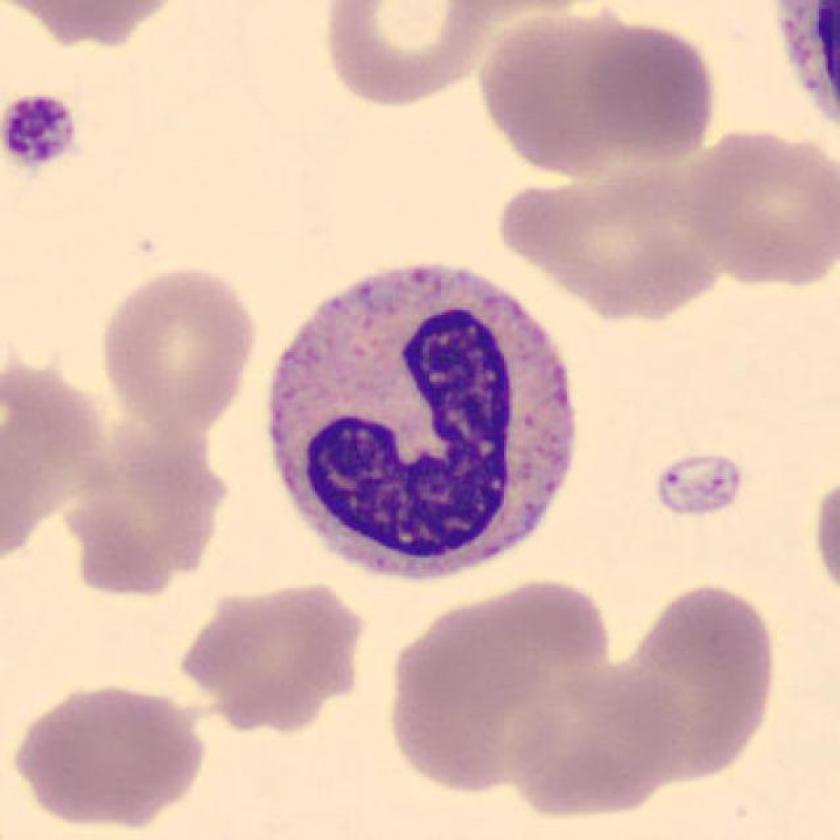neutrophil: (270, 262, 573, 579)
